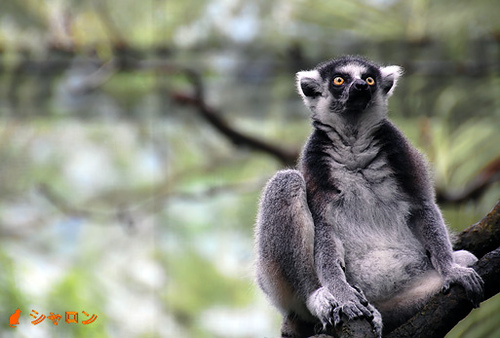cat: (253, 54, 487, 337)
